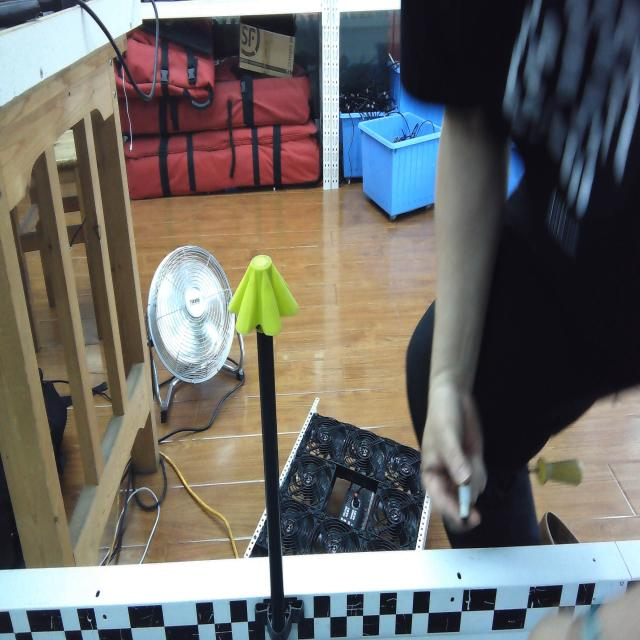Yellow-Stake-Head: (230, 252, 300, 336)
